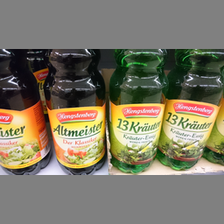vinegar: (44, 50, 109, 174), (160, 49, 222, 170), (112, 50, 168, 175), (1, 50, 48, 174)
